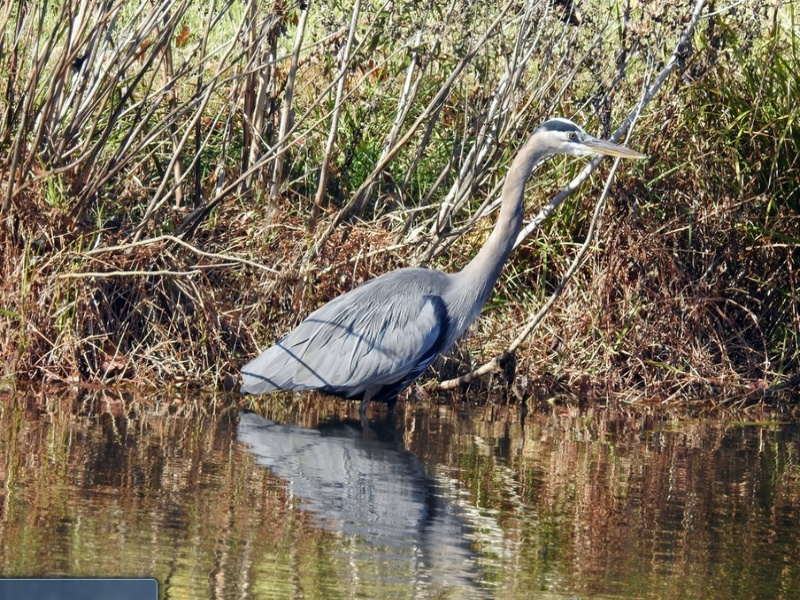heron: (236, 109, 641, 403)
